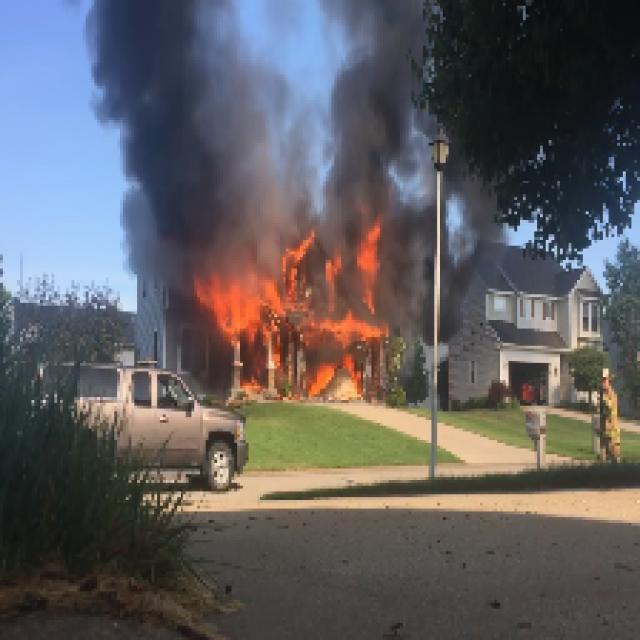Fire: (308, 228, 381, 392), (188, 263, 302, 340)
Smoke: (80, 3, 297, 240), (326, 2, 426, 198), (383, 214, 431, 320)
